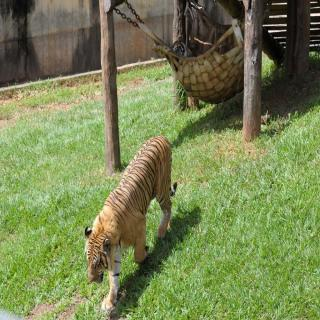Tiger: (84, 132, 178, 308)
